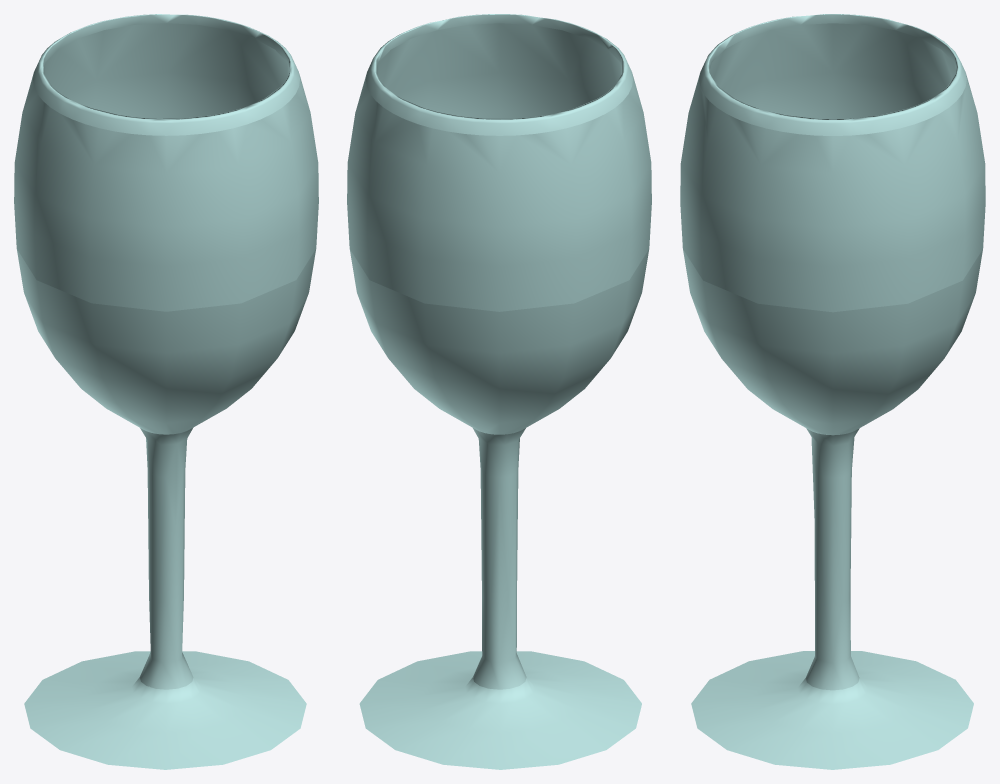
File: wineglass_reduced.fbx
3 views of the same model, side by side, from view 1: azimuth 30°, elevation 25°; view 2: azimuth 150°, elevation 25°; view 3: azimuth 270°, elevation 25° (orthographic).
Visible parts, largest first — view 1: polySurface32, polySurface33, pCylinder1, polySurface29, polySurface26; view 2: polySurface32, polySurface33, pCylinder1, polySurface29, polySurface26; view 3: polySurface32, polySurface33, pCylinder1, polySurface29, polySurface26.
Part boxes in pixels (x1=…): polySurface32: x1=14, y1=23, x2=318, y2=311; polySurface33: x1=17, y1=249, x2=315, y2=434; pCylinder1: x1=24, y1=651, x2=306, y2=769; polySurface29: x1=140, y1=427, x2=193, y2=689; polySurface26: x1=33, y1=14, x2=299, y2=135; polySurface32: x1=347, y1=23, x2=651, y2=311; polySurface33: x1=349, y1=249, x2=649, y2=434; pCylinder1: x1=359, y1=651, x2=641, y2=769; polySurface29: x1=473, y1=428, x2=526, y2=689; polySurface26: x1=366, y1=14, x2=632, y2=135; polySurface32: x1=680, y1=23, x2=985, y2=312; polySurface33: x1=683, y1=249, x2=982, y2=435; pCylinder1: x1=691, y1=651, x2=973, y2=769; polySurface29: x1=806, y1=428, x2=859, y2=690; polySurface26: x1=699, y1=14, x2=966, y2=135.
Size of the model in its own units: 7.84 by 18.21 by 7.84.
